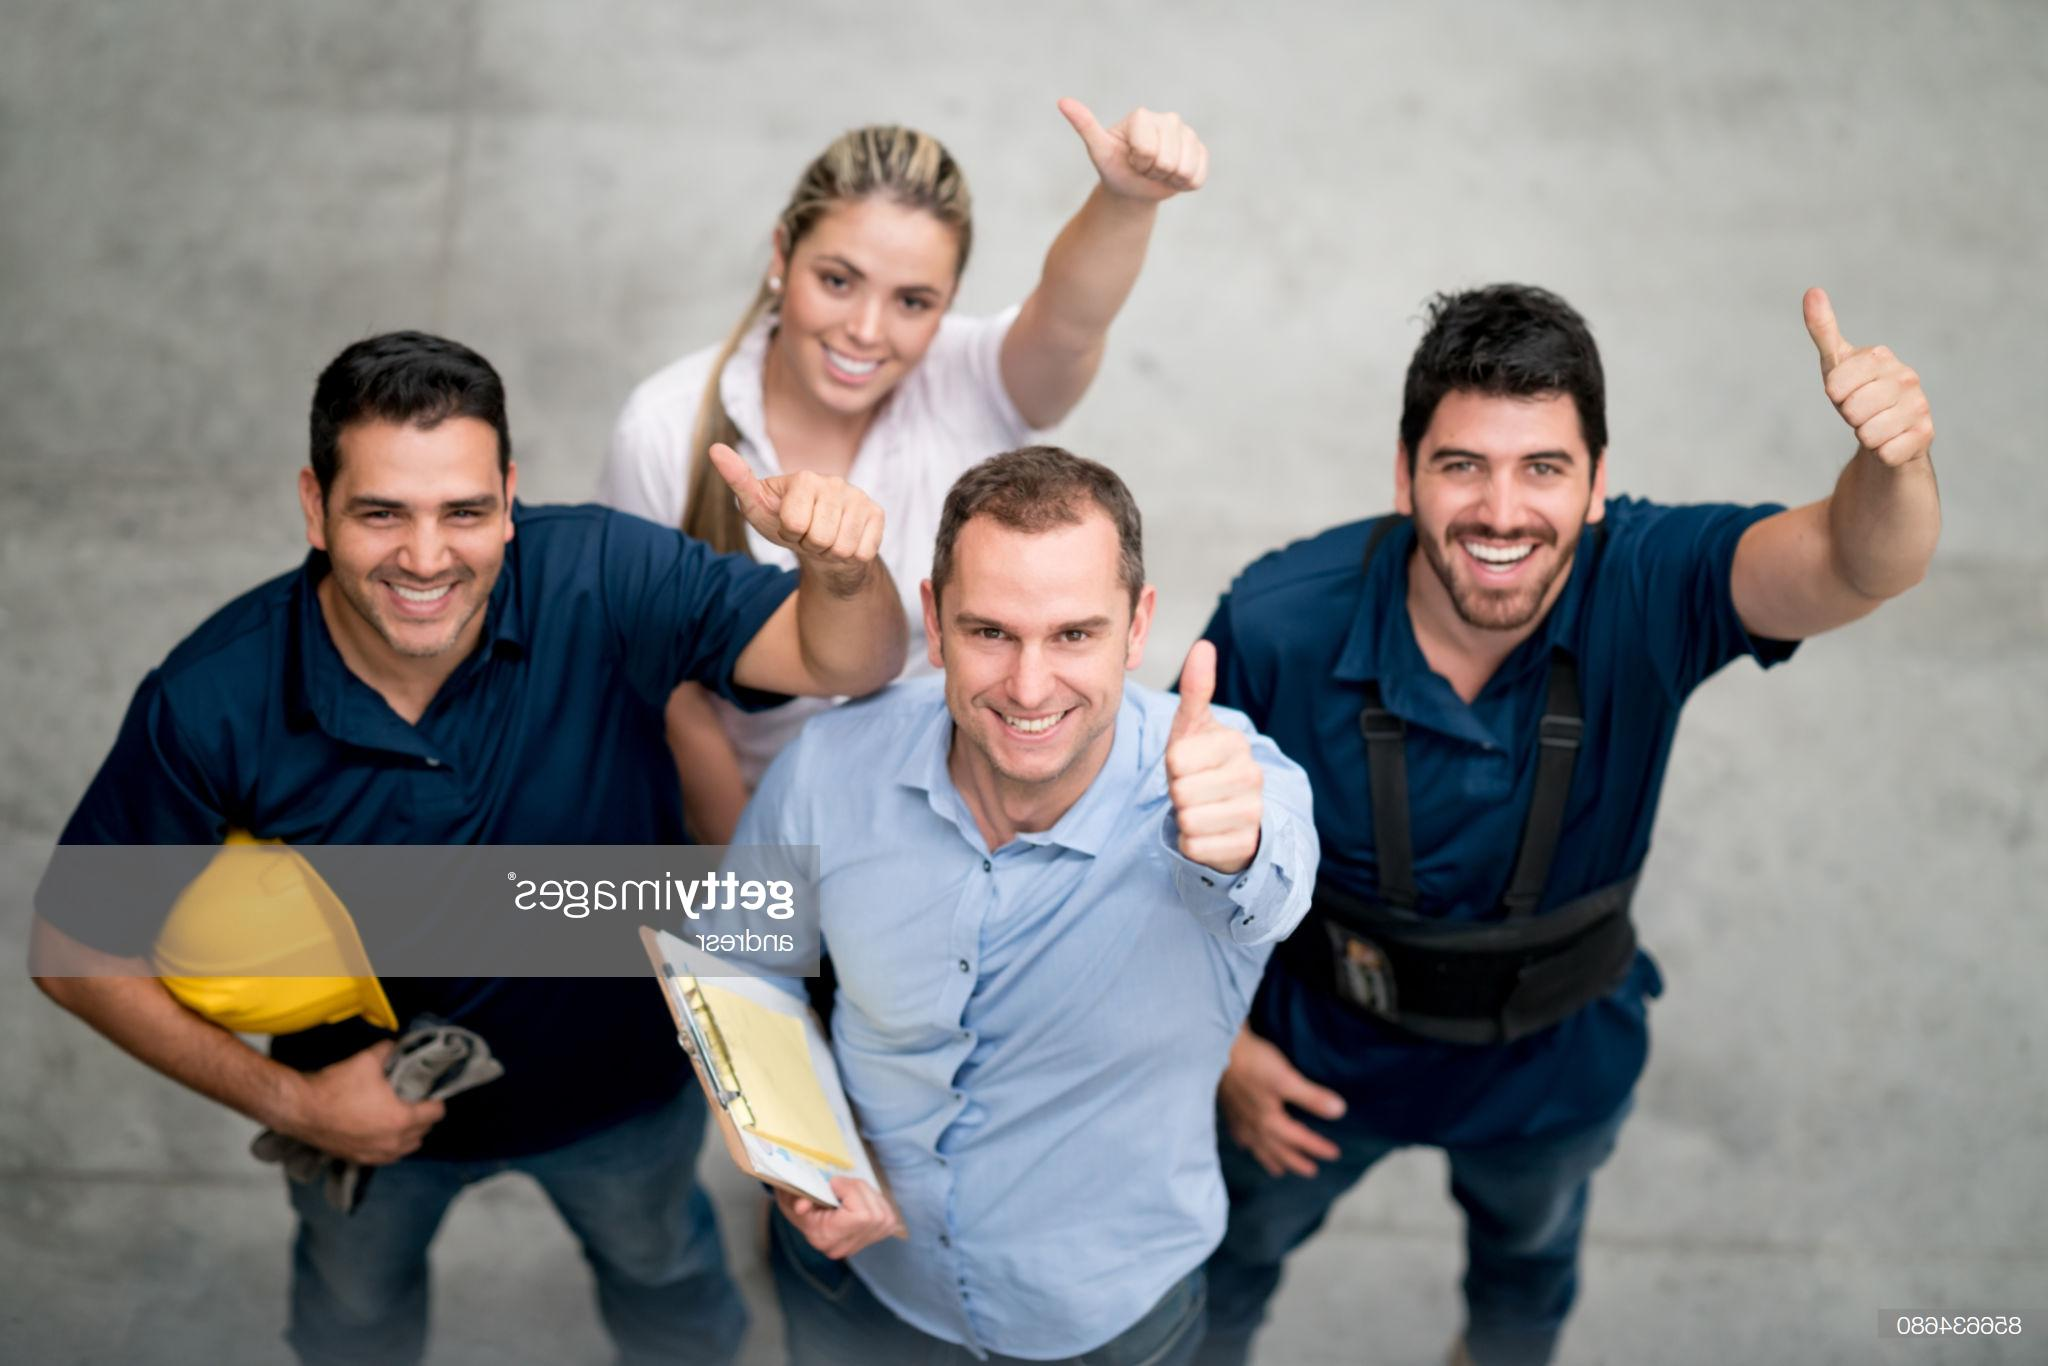thumbsup: (1801, 287, 1935, 467), (1166, 637, 1265, 861), (709, 442, 885, 563), (1058, 96, 1208, 195)
